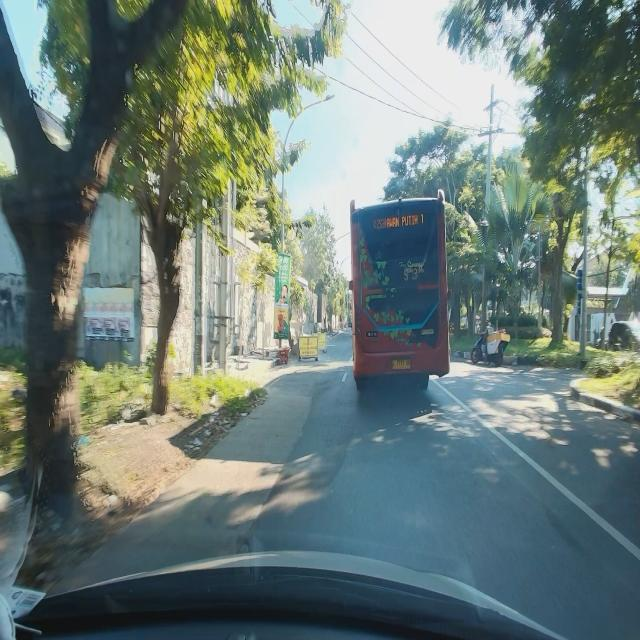bus: (349, 189, 451, 391)
license-plate: (392, 359, 411, 370)
